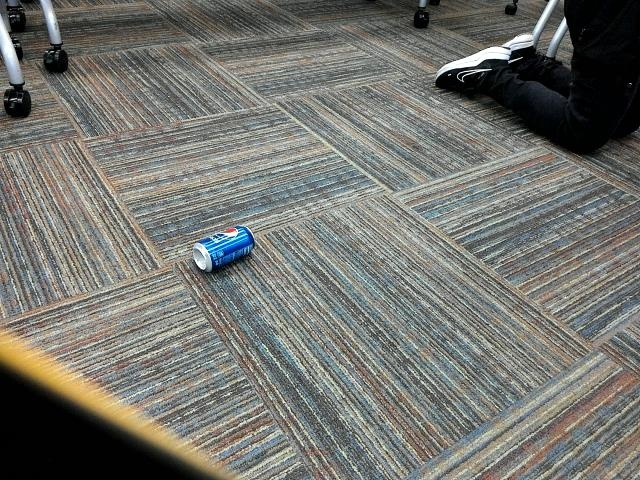can: (185, 221, 263, 277)
